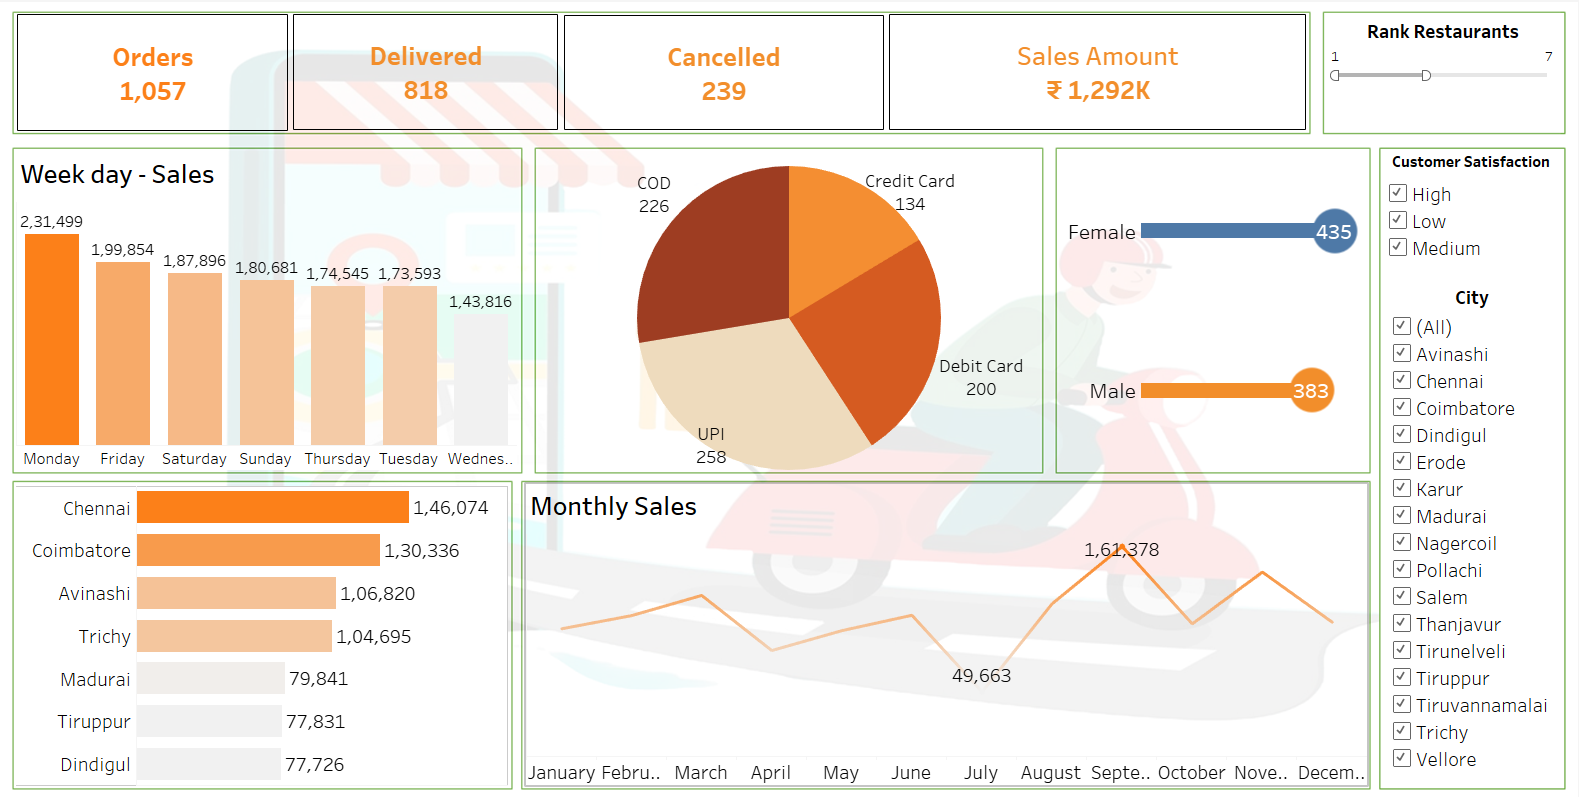

Layout of this report page (visuals, bound fields, positions):
{"tool":"tableau","page":{"name":"Final Dashboard","canvas":[1580,900],"ordinal":0},"visuals":[{"type":"image","param":"Image/Presentation swiggy background 2.png","box":[6,9,1569,890]},{"type":"image","param":"Image/swiggy (1).png","box":[582,28,115,67]},{"type":"text","box":[695,28,242,66]},{"type":"worksheet","title":"KPI","mark":"Automatic","box":[19,112,271,117]},{"type":"worksheet","title":"kpi 2","mark":"Automatic","box":[295,112,265,116]},{"type":"worksheet","title":"kpi4","mark":"Automatic","box":[891,112,417,116]},{"type":"worksheet","title":"kpi3","mark":"Automatic","box":[566,113,320,115]},{"type":"filter","title":"Top City","param":"[federated.0rrwoch0ot3qe21b1ukf51syid7i].[usr:Calculation_1289718389309992960:qk","box":[1328,116,234,111]},{"type":"worksheet","title":"Pie chart","mark":"Pie","box":[541,249,500,319]},{"type":"worksheet","title":"Gender","mark":"Automatic","rows":["Gender"],"cols":["Calculation_223209702933778433","Calculation_223209702933778433"],"box":[1063,249,306,319]},{"type":"filter","title":"Monthly Sales","param":"[federated.0rrwoch0ot3qe21b1ukf51syid7i].[none:Calculation_783344906112741376:nk","box":[1384,249,178,124]},{"type":"worksheet","title":"Week day - Sales","mark":"Automatic","rows":["order_value"],"cols":["Day"],"box":[18,250,501,318]},{"type":"filter","title":"Top City","param":"[federated.0rrwoch0ot3qe21b1ukf51syid7i].[none:City:nk]","box":[1388,382,172,493]},{"type":"worksheet","title":"Monthly Sales","mark":"Line","rows":["order_value"],"cols":["Date"],"box":[528,582,841,301]},{"type":"worksheet","title":"Top City","mark":"Automatic","rows":["City"],"cols":["order_value"],"box":[18,584,492,300]}]}

Visuals, with their boxes on the page's 1580x900 design canvas (x1, y1, x2, y2). These are canvas units, not pixel positions in the 1579x797 screenshot, which may show the page scaled, cropped or inside an application window:
image: bbox(6, 9, 1575, 899)
image: bbox(582, 28, 697, 95)
text: bbox(695, 28, 937, 94)
"KPI" worksheet: bbox(19, 112, 290, 229)
"kpi 2" worksheet: bbox(295, 112, 560, 228)
"kpi4" worksheet: bbox(891, 112, 1308, 228)
"kpi3" worksheet: bbox(566, 113, 886, 228)
"Top City" filter: bbox(1328, 116, 1562, 227)
"Pie chart" worksheet (Pie marks): bbox(541, 249, 1041, 568)
"Gender" worksheet: bbox(1063, 249, 1369, 568)
"Monthly Sales" filter: bbox(1384, 249, 1562, 373)
"Week day - Sales" worksheet: bbox(18, 250, 519, 568)
"Top City" filter: bbox(1388, 382, 1560, 875)
"Monthly Sales" worksheet (Line marks): bbox(528, 582, 1369, 883)
"Top City" worksheet: bbox(18, 584, 510, 884)
